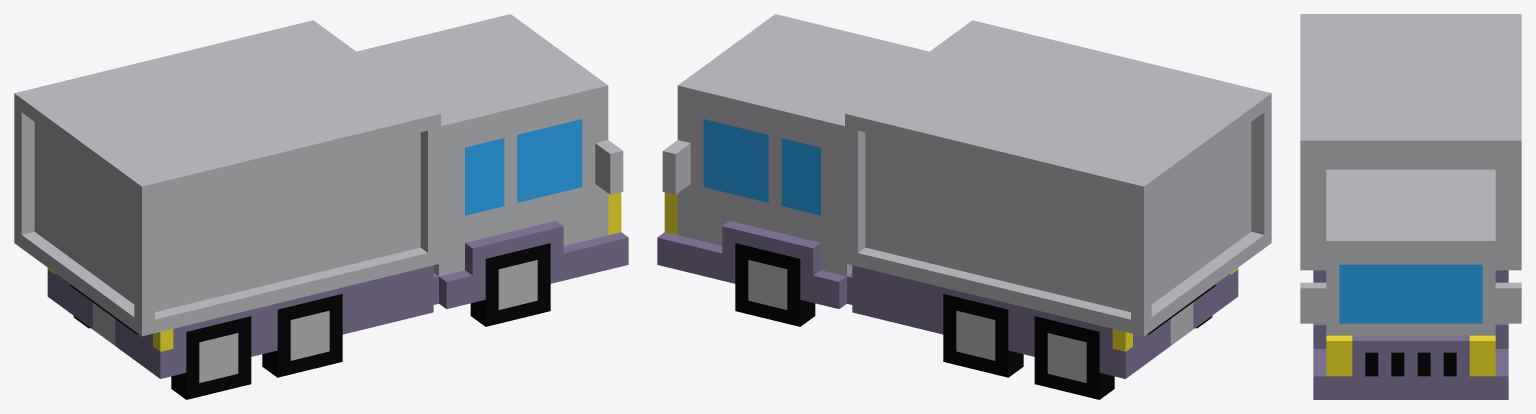
File: truck_b_d.obj
3 views of the same model, side by side, from view 1: azimuth 30°, elevation 25°; view 2: azimuth 150°, elevation 25°; view 3: azimuth 270°, elevation 25° (orthographic). The views are drawn at different scales.
Bounding box in the file's own units: 3.8 × 1.7 × 1.7.
1 material, 1 textured.
